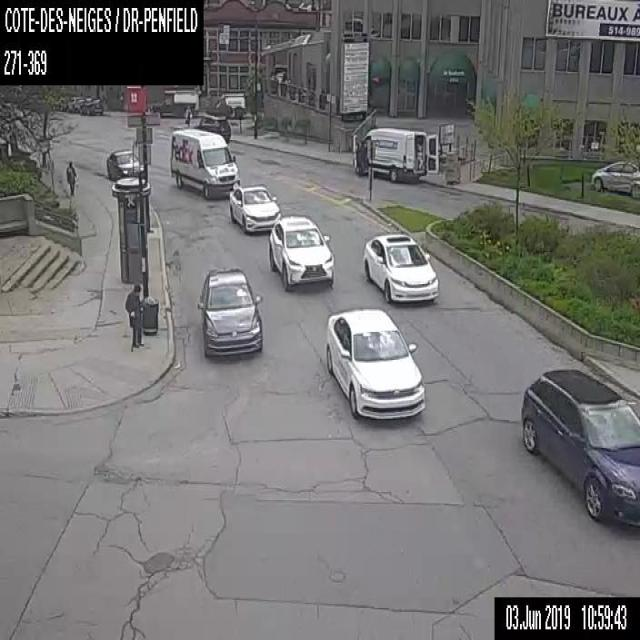pedestrian: (123, 282, 142, 346), (64, 159, 76, 193), (356, 142, 363, 176), (415, 137, 422, 169), (184, 104, 191, 125)
vehicle: (520, 367, 639, 532), (324, 304, 426, 421), (195, 264, 262, 356), (361, 231, 439, 301), (169, 126, 239, 197), (268, 214, 334, 289), (353, 124, 438, 181), (228, 183, 280, 234), (591, 157, 639, 198), (151, 84, 199, 115), (105, 147, 143, 180), (196, 116, 230, 143), (213, 91, 246, 116), (79, 95, 103, 113), (67, 96, 84, 112)
